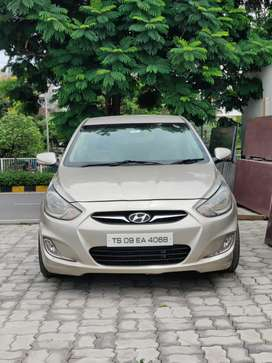TS09EA4088: (106, 232, 173, 246)
